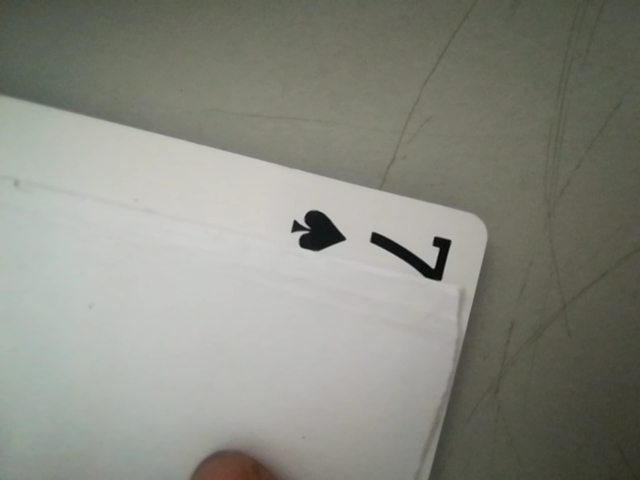ht 7: (269, 205, 474, 284)
